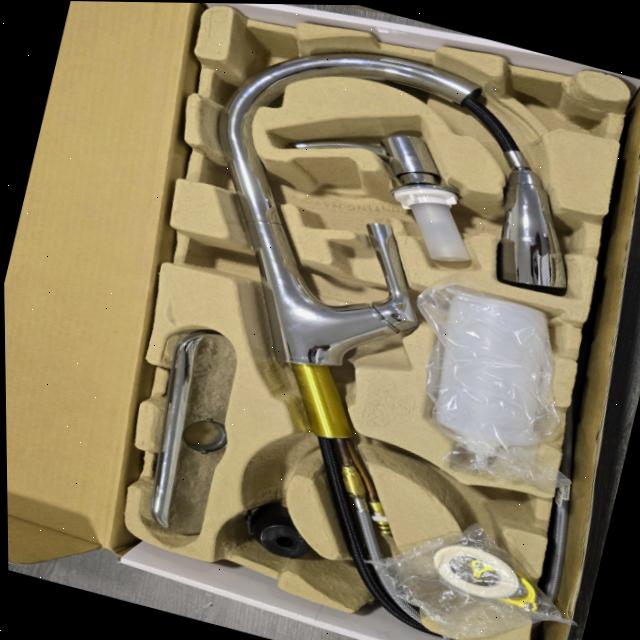1o: (214, 51, 567, 626)
2: (293, 133, 468, 263)
3: (426, 283, 556, 473)
4: (153, 331, 234, 536)
5: (243, 505, 310, 557)
6: (365, 525, 582, 640)
7m: (405, 466, 536, 534)
